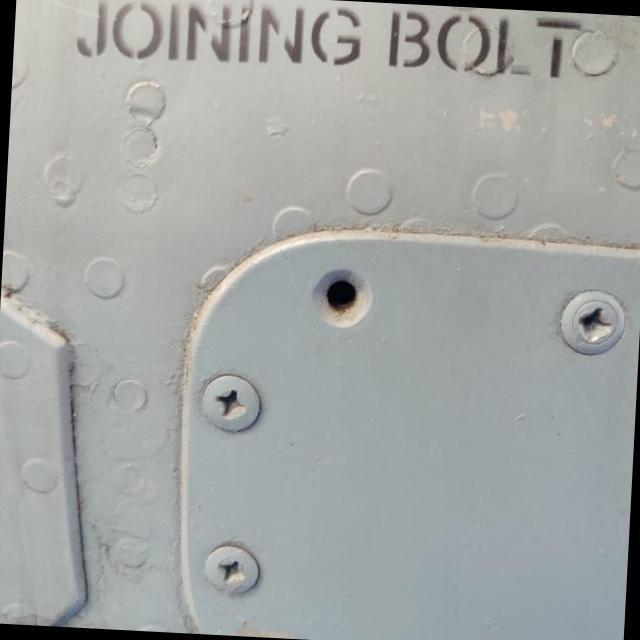Missing Fastener: (309, 266, 377, 336)
